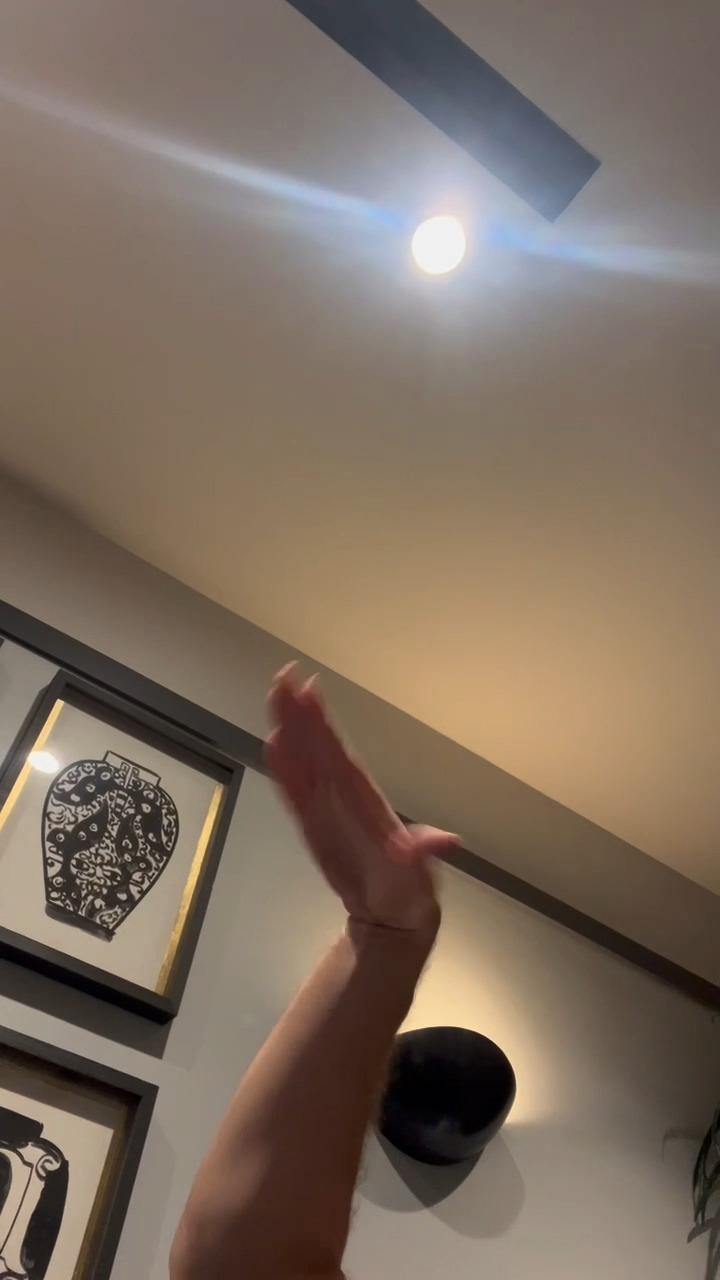Paper: (258, 660, 462, 942)
